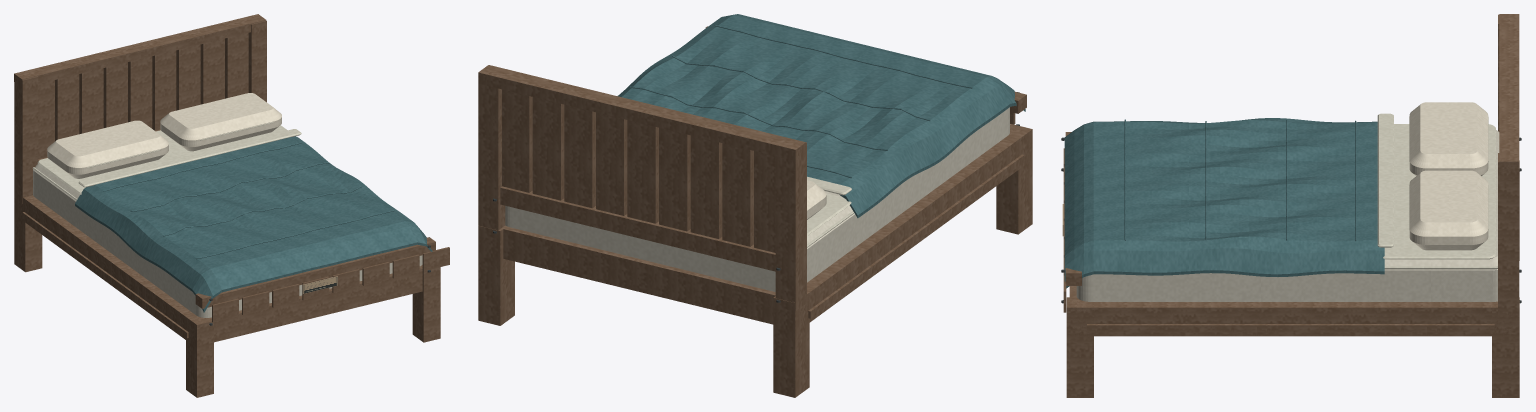
The model's file is ProjectZ_BED26_Bed_Frame_Mattress_Linens.glb.
The picture shows the model from 3 angles, left to right: view 1: azimuth 30°, elevation 25°; view 2: azimuth 150°, elevation 25°; view 3: azimuth 270°, elevation 25°; orthographic projection. The views are drawn at different scales.
Parts seen in each view (by area): view 1: RENDER_Duvet_WeightedDrapeWithSubtleWrinkles, RENDER_Pillow_1_SoftPaddedCase, RENDER_Pillow_2_SoftPaddedCase, RENDER_Frame_Left_SolidOakSideRail, RENDER_Frame_FootEndRail, RENDER_Mattress_ThickCreamTicking_2030x1520, RENDER_Headboard_TopCappingRail, RENDER_Headboard_L_SolidUpright, RENDER_Footboard_TopRail, RENDER_Frame_CornerLeg_1_1, RENDER_Frame_CornerLeg_2_1, RENDER_CottonSheet_VisibleFoldedCuff (+20 smaller); view 2: RENDER_Duvet_WeightedDrapeWithSubtleWrinkles, RENDER_Mattress_ThickCreamTicking_2030x1520, RENDER_Frame_HeadEndRail, RENDER_Frame_Left_SolidOakSideRail, RENDER_Headboard_TopCappingRail, RENDER_Headboard_LowerCrossRail, RENDER_Headboard_L_SolidUpright, RENDER_Headboard_R_SolidUpright, RENDER_Frame_CornerLeg_1_2, RENDER_Headboard_GrainedInsetPlank_03, RENDER_Headboard_GrainedInsetPlank_08, RENDER_Frame_CornerLeg_2_2 (+14 smaller); view 3: RENDER_Duvet_WeightedDrapeWithSubtleWrinkles, RENDER_Mattress_ThickCreamTicking_2030x1520, RENDER_Frame_Right_SolidOakSideRail, RENDER_Pillow_2_SoftPaddedCase, RENDER_Pillow_1_SoftPaddedCase, RENDER_Sheet_ExposedPillowEnd, RENDER_Frame_Right_InsideSlatLedger, RENDER_Headboard_R_SolidUpright, RENDER_Headboard_TopCappingRail, RENDER_Frame_CornerLeg_2_1, RENDER_Frame_CornerLeg_2_2, RENDER_CottonSheet_VisibleFoldedCuff (+1 smaller).
Boxes of the visible parts, x1,y1,x2,y2 form: RENDER_Duvet_WeightedDrapeWithSubtleWrinkles: (75,136,432,312); RENDER_Pillow_1_SoftPaddedCase: (47,120,168,178); RENDER_Pillow_2_SoftPaddedCase: (160,93,281,151); RENDER_Frame_Left_SolidOakSideRail: (17,195,204,345); RENDER_Frame_FootEndRail: (197,265,422,342); RENDER_Mattress_ThickCreamTicking_2030x1520: (33,164,422,317); RENDER_Headboard_TopCappingRail: (14,14,266,83); RENDER_Headboard_L_SolidUpright: (14,74,38,203); RENDER_Footboard_TopRail: (195,237,435,308); RENDER_Frame_CornerLeg_1_1: (186,314,213,397); RENDER_Frame_CornerLeg_2_1: (412,265,440,342); RENDER_CottonSheet_VisibleFoldedCuff: (78,129,301,187); RENDER_Duvet_WeightedDrapeWithSubtleWrinkles: (617,14,1025,218); RENDER_Mattress_ThickCreamTicking_2030x1520: (505,107,1009,291); RENDER_Frame_HeadEndRail: (502,225,775,324); RENDER_Frame_Left_SolidOakSideRail: (799,132,1029,322); RENDER_Headboard_TopCappingRail: (478,65,805,160); RENDER_Headboard_LowerCrossRail: (500,186,775,271); RENDER_Headboard_L_SolidUpright: (775,142,806,310); RENDER_Headboard_R_SolidUpright: (478,83,505,230); RENDER_Frame_CornerLeg_1_2: (773,292,809,397); RENDER_Headboard_GrainedInsetPlank_03: (690,135,722,238); RENDER_Headboard_GrainedInsetPlank_08: (532,97,564,200); RENDER_Frame_CornerLeg_2_2: (478,225,514,325); RENDER_Duvet_WeightedDrapeWithSubtleWrinkles: (1064,118,1384,288); RENDER_Mattress_ThickCreamTicking_2030x1520: (1076,130,1499,301); RENDER_Frame_Right_SolidOakSideRail: (1072,301,1511,336); RENDER_Pillow_2_SoftPaddedCase: (1409,170,1488,250); RENDER_Pillow_1_SoftPaddedCase: (1409,102,1488,175); RENDER_Sheet_ExposedPillowEnd: (1383,124,1495,259); RENDER_Frame_Right_InsideSlatLedger: (1087,324,1494,332); RENDER_Headboard_R_SolidUpright: (1498,153,1519,315); RENDER_Headboard_TopCappingRail: (1499,14,1519,172); RENDER_Frame_CornerLeg_2_1: (1066,297,1093,397); RENDER_Frame_CornerLeg_2_2: (1492,297,1519,397); RENDER_CottonSheet_VisibleFoldedCuff: (1377,113,1393,247).
Size of the model in its own units: 1.71 by 1.23 by 2.17.
7 materials, 7 textured.
